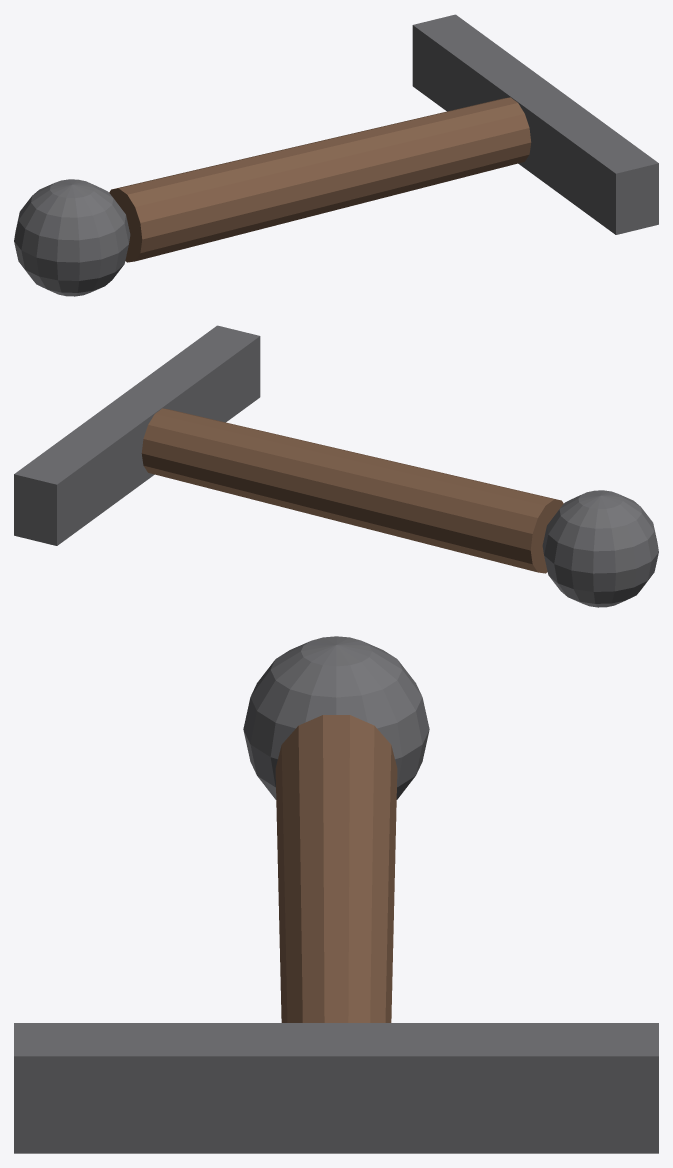
File: handle.fbx
The picture shows the model from 3 angles, top to bottom: view 1: azimuth 30°, elevation 25°; view 2: azimuth 150°, elevation 25°; view 3: azimuth 270°, elevation 25°; orthographic projection. The views are drawn at different scales.
Parts seen in each view (by area): view 1: handle; view 2: handle; view 3: handle.
Boxes of the visible parts, x1,y1,x2,y2 form: handle: (14,14,658,296); handle: (14,325,658,607); handle: (14,636,658,1153).
Bounding box in the file's own units: 0.274 × 0.052 × 0.18.
